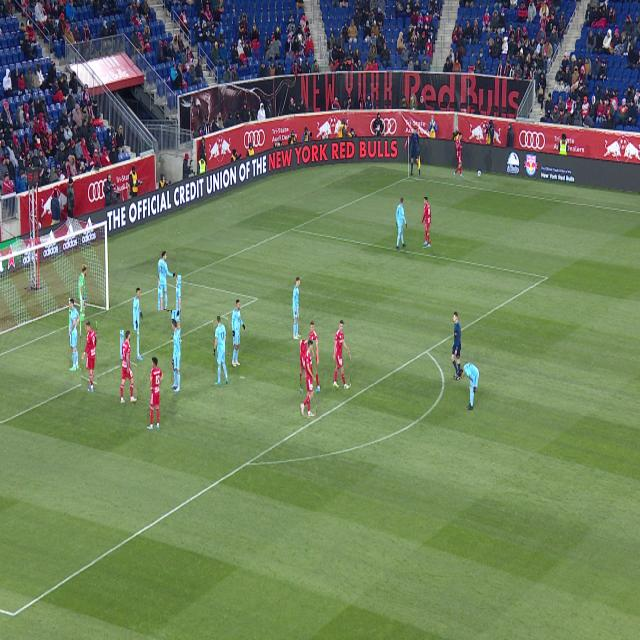goalkeeper: (78, 264, 87, 338)
player: (147, 357, 163, 429), (121, 331, 137, 403), (301, 341, 316, 417), (334, 320, 350, 389), (158, 251, 176, 310), (82, 322, 97, 392), (214, 316, 228, 385), (459, 363, 479, 410), (232, 300, 245, 366), (309, 321, 320, 393), (70, 298, 80, 371), (133, 288, 143, 360), (172, 320, 181, 392), (171, 276, 181, 338), (396, 198, 407, 250), (292, 277, 301, 339), (422, 197, 431, 247), (303, 350, 306, 358), (303, 391, 303, 392)
referee: (451, 311, 461, 381)
